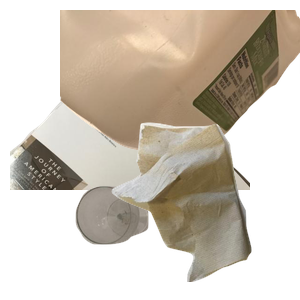glass: (73, 184, 214, 300)
paper: (10, 46, 250, 226)
plastic: (60, 10, 300, 160)
trash: (109, 120, 300, 300)
